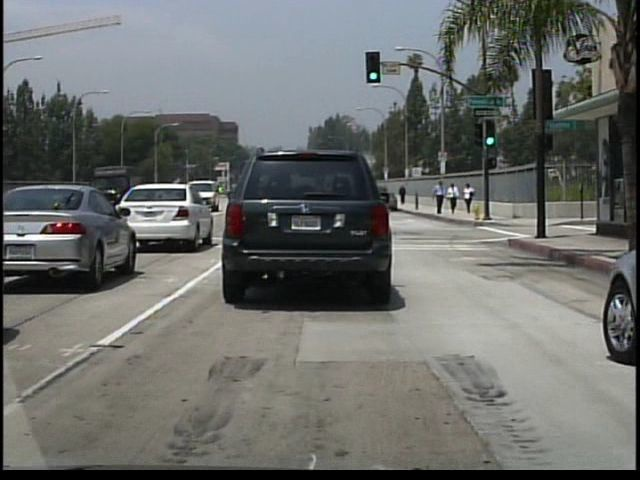person: (436, 178, 449, 217), (448, 183, 461, 217), (464, 182, 477, 215), (399, 184, 409, 206)
